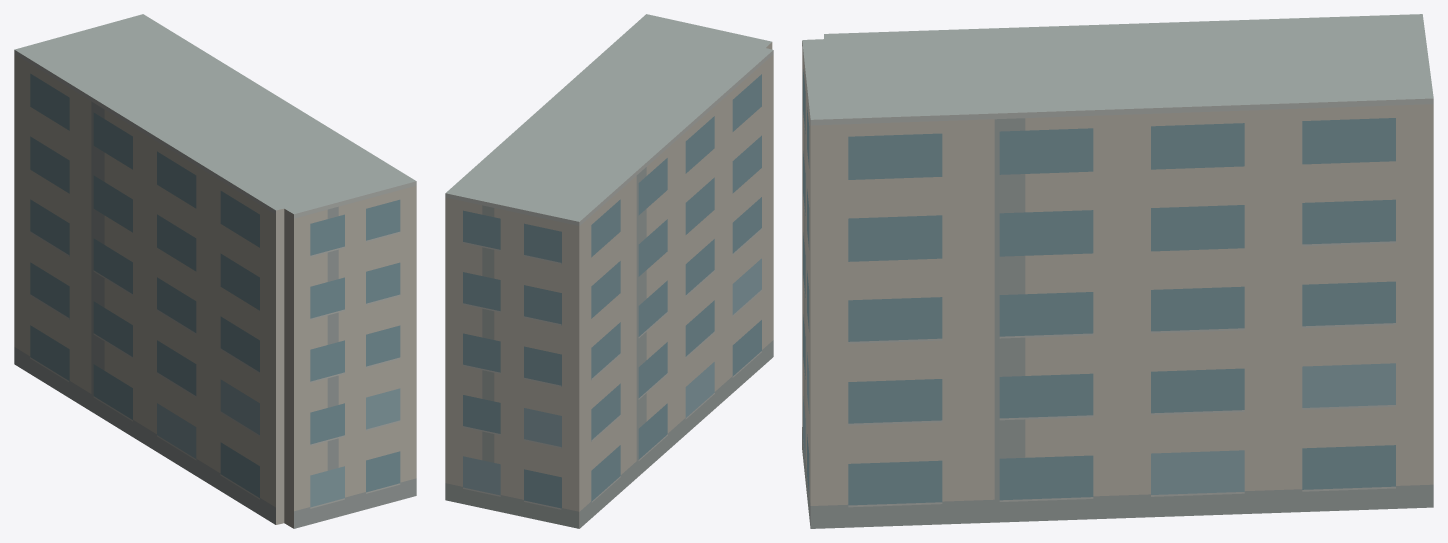
The model's file is survey-upis-32639379.glb.
3 renders of one model, left to right at view 1: azimuth 30°, elevation 25°; view 2: azimuth 150°, elevation 25°; view 3: azimuth 270°, elevation 25°, orthographic. The views are drawn at different scales.
Visible parts, largest first — view 1: survey-upis-32639379.tmp; view 2: survey-upis-32639379.tmp; view 3: survey-upis-32639379.tmp.
Part boxes in pixels (x1,y1,x2,y2): survey-upis-32639379.tmp: (14, 14, 416, 528); survey-upis-32639379.tmp: (445, 14, 773, 528); survey-upis-32639379.tmp: (802, 14, 1433, 528).
Size of the model in its own units: 9.81 by 17.65 by 24.71.
